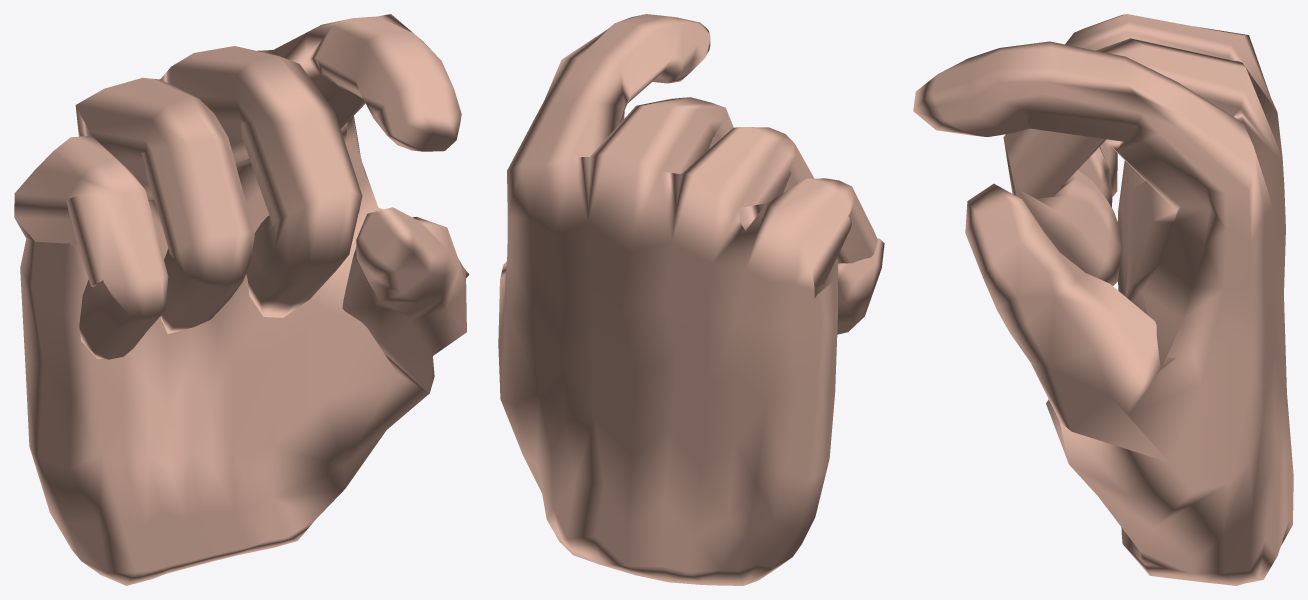
Rendered from CURVADO_X.obj.
The picture shows the model from 3 angles, left to right: view 1: azimuth 30°, elevation 25°; view 2: azimuth 150°, elevation 25°; view 3: azimuth 270°, elevation 25°; orthographic projection. The views are drawn at different scales.
Visible parts, largest first — view 1: mao_dir:mao_dir; view 2: mao_dir:mao_dir; view 3: mao_dir:mao_dir.
Part boxes in pixels (x1,y1,x2,y2): mao_dir:mao_dir: (14,14,469,585); mao_dir:mao_dir: (498,14,884,585); mao_dir:mao_dir: (913,14,1293,585).
Bounding box in the file's own units: 136 × 169 × 106.
